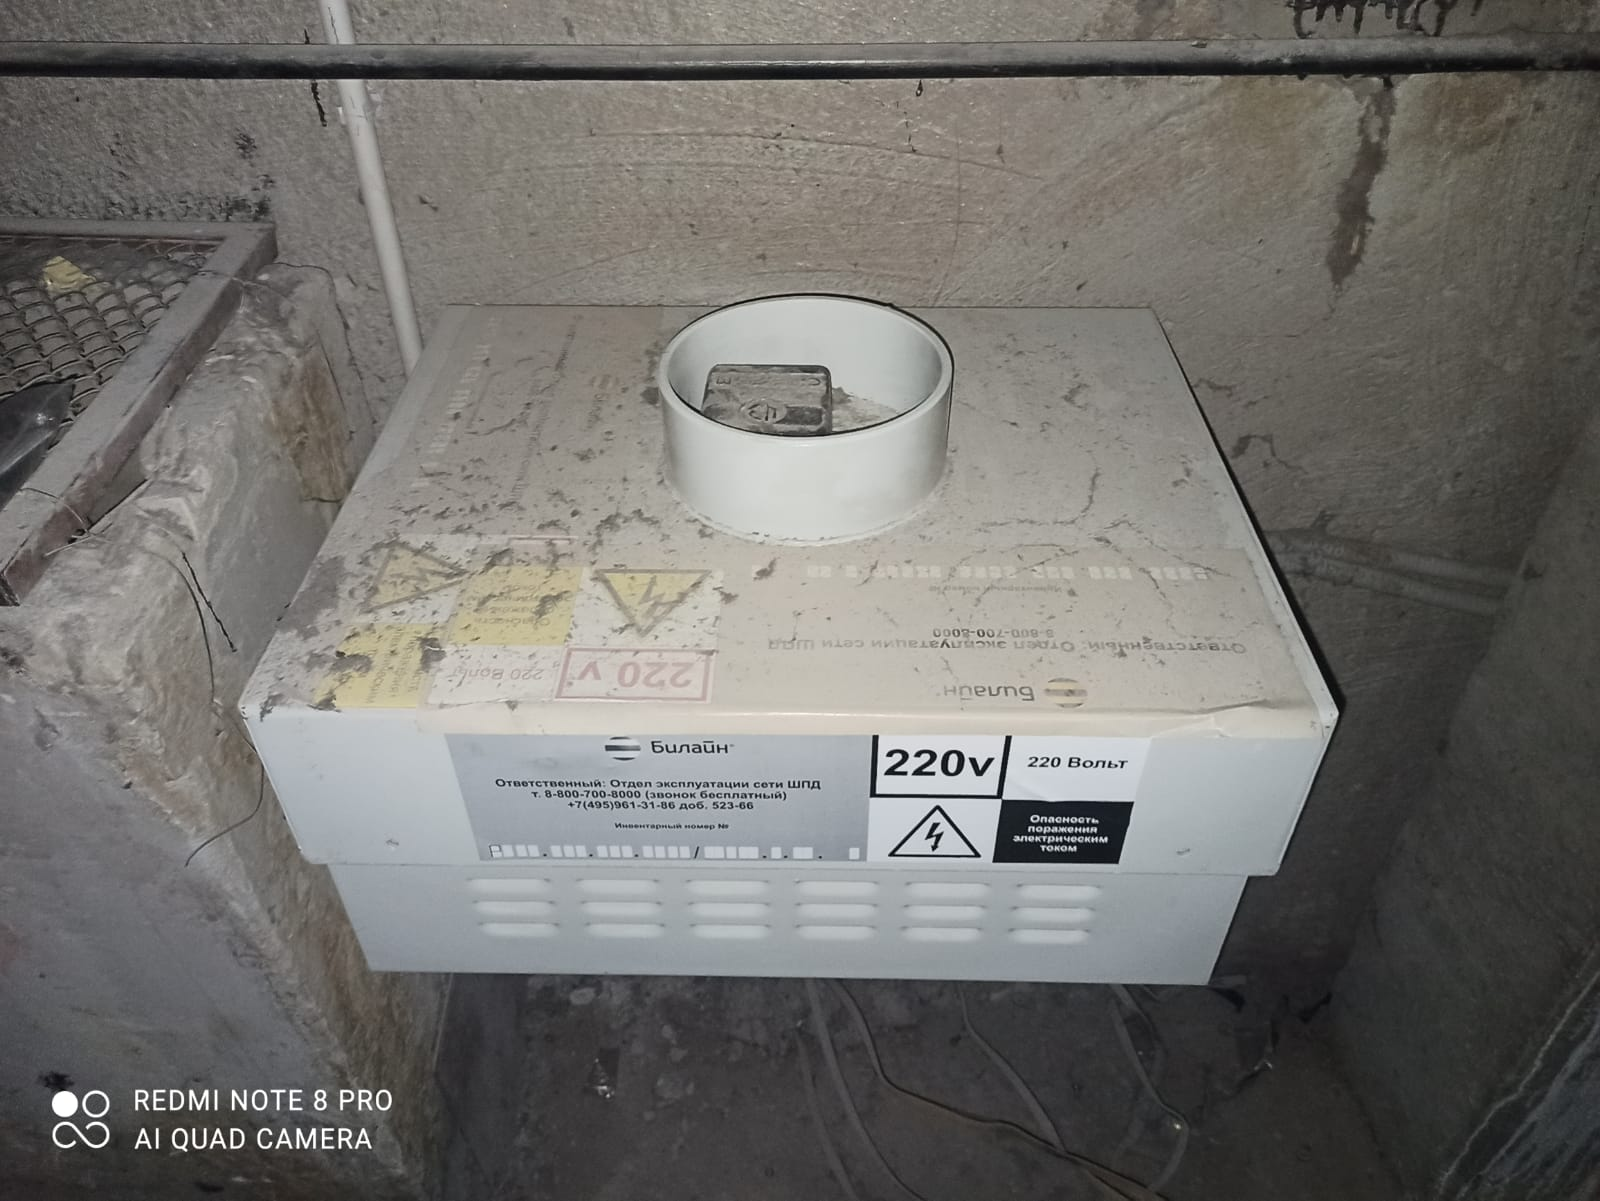shta-ps: (225, 272, 1348, 1007)
